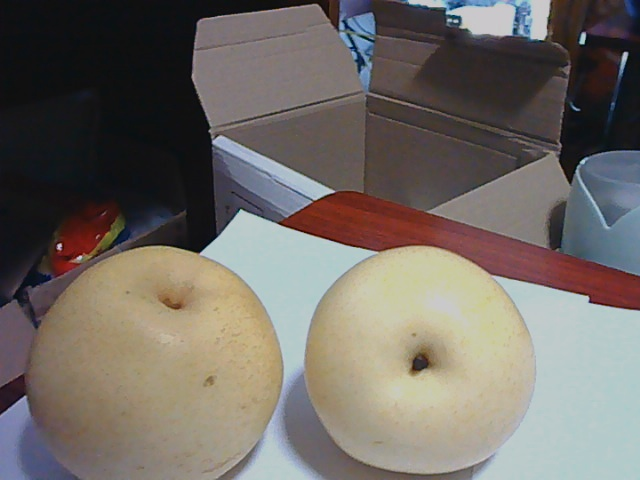pear: (28, 239, 286, 480), (301, 247, 543, 480)
